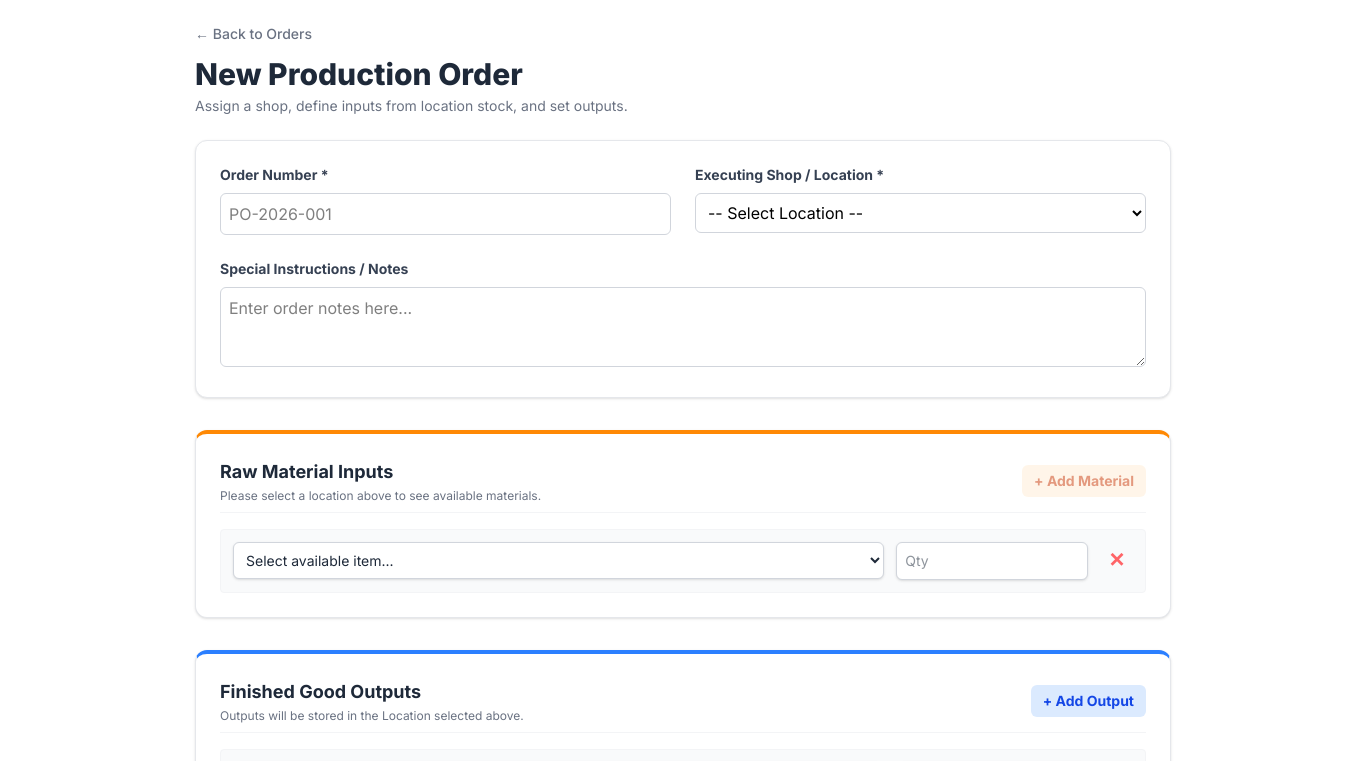
Test: NewOrder — Zod validation › shows location validation error when no location is selected
Type "PO-TEST-001" into the field with placeholder "PO-2026-001" at [446, 214], box [220,193,671,235]
(page scrolled)
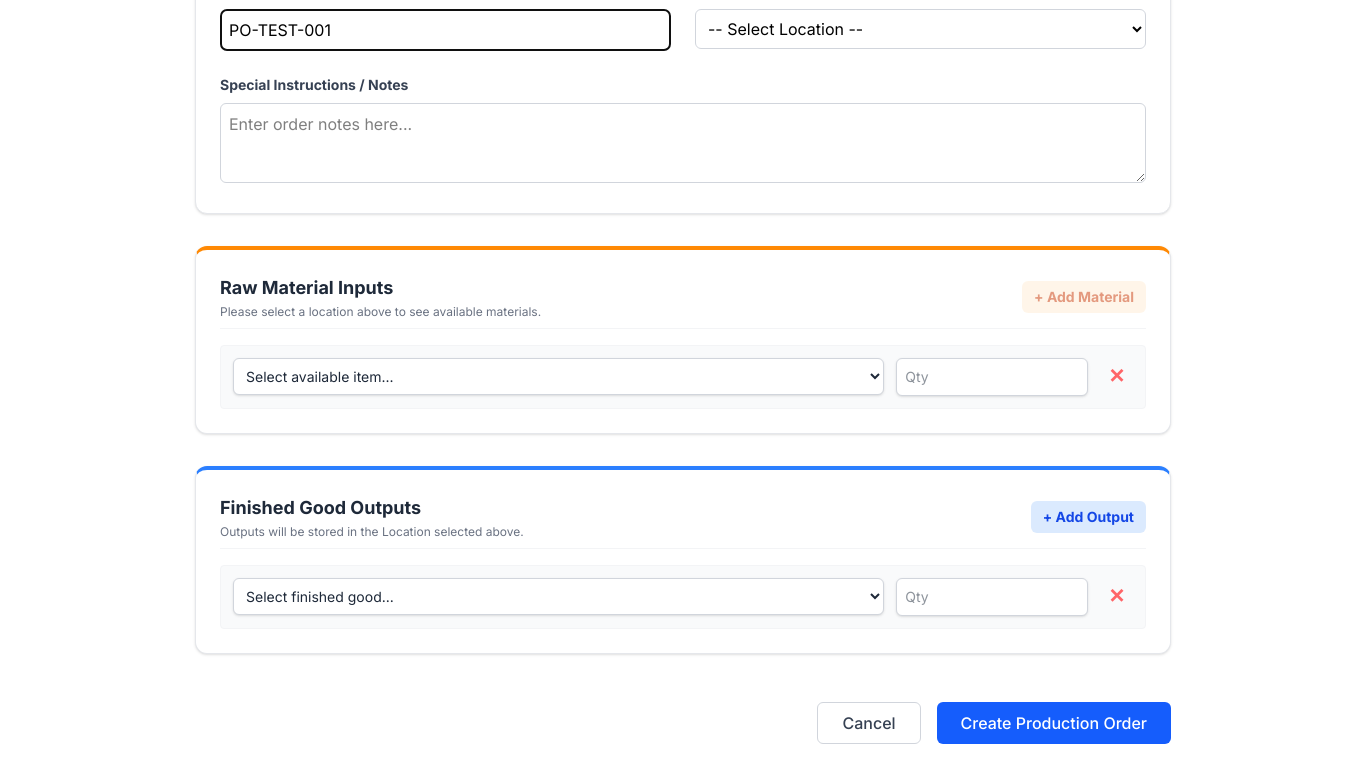
Click the button "Create Production Order" at [1054, 723], box [937,702,1171,744]
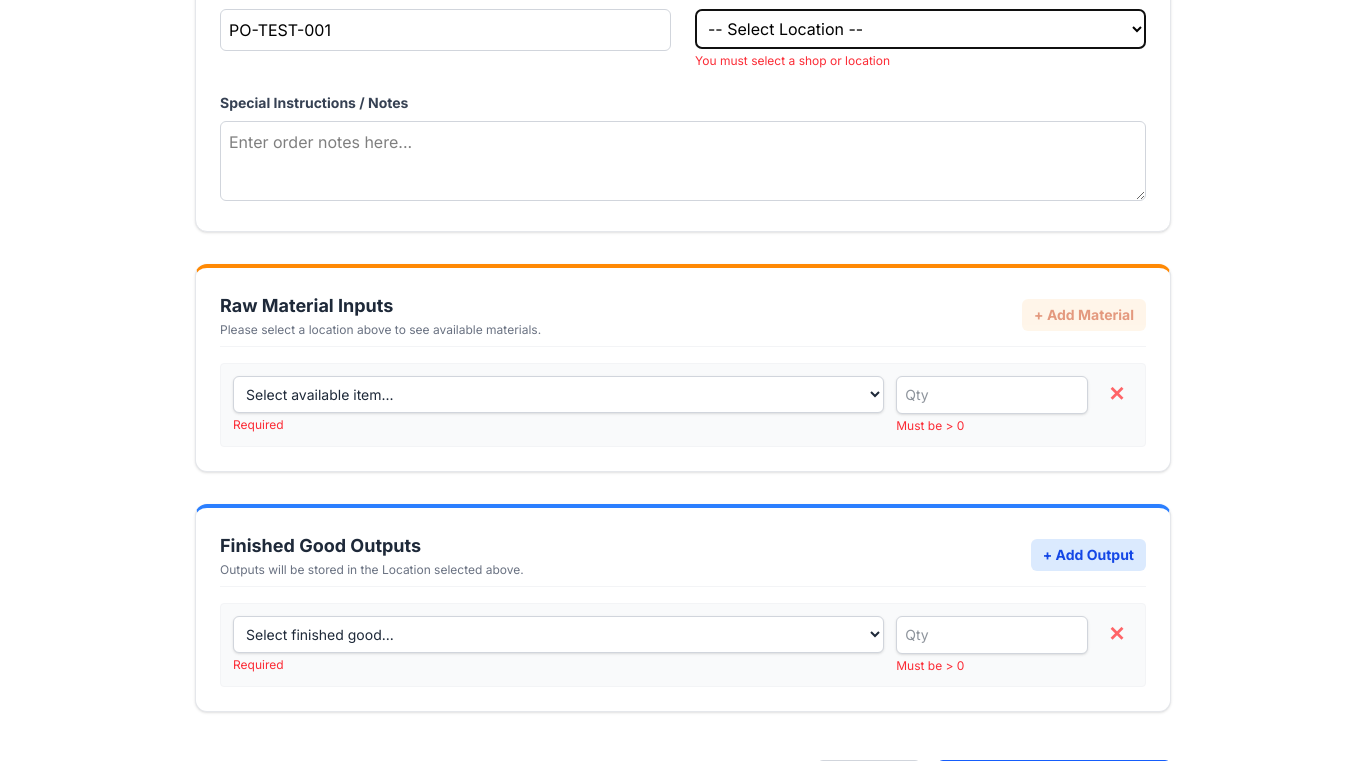
Check: the text "You must select a shop or location" is shown, box [695,53,890,68]
